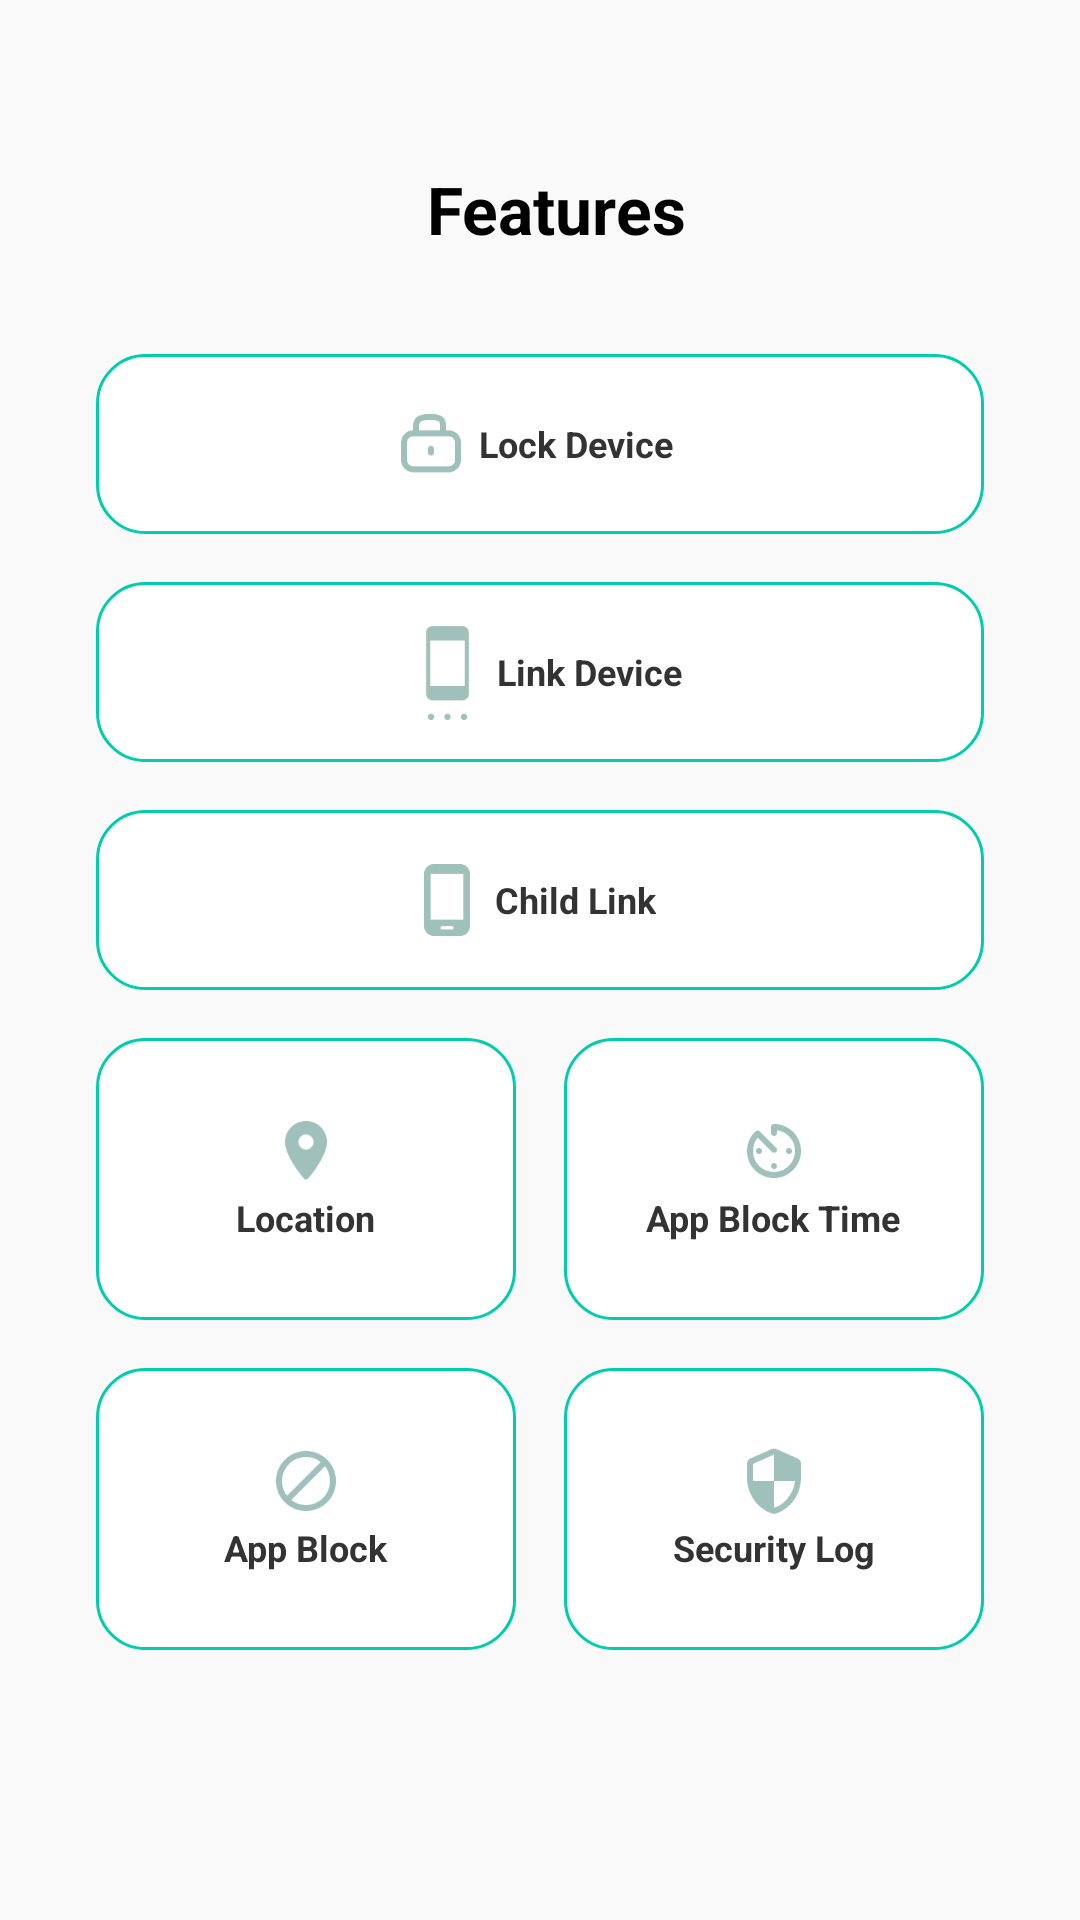

Point at icon controls on the screen. Image size 1080×1920, points as point (x, y).
device management: point (447, 673)
get your child phone: point (447, 900)
